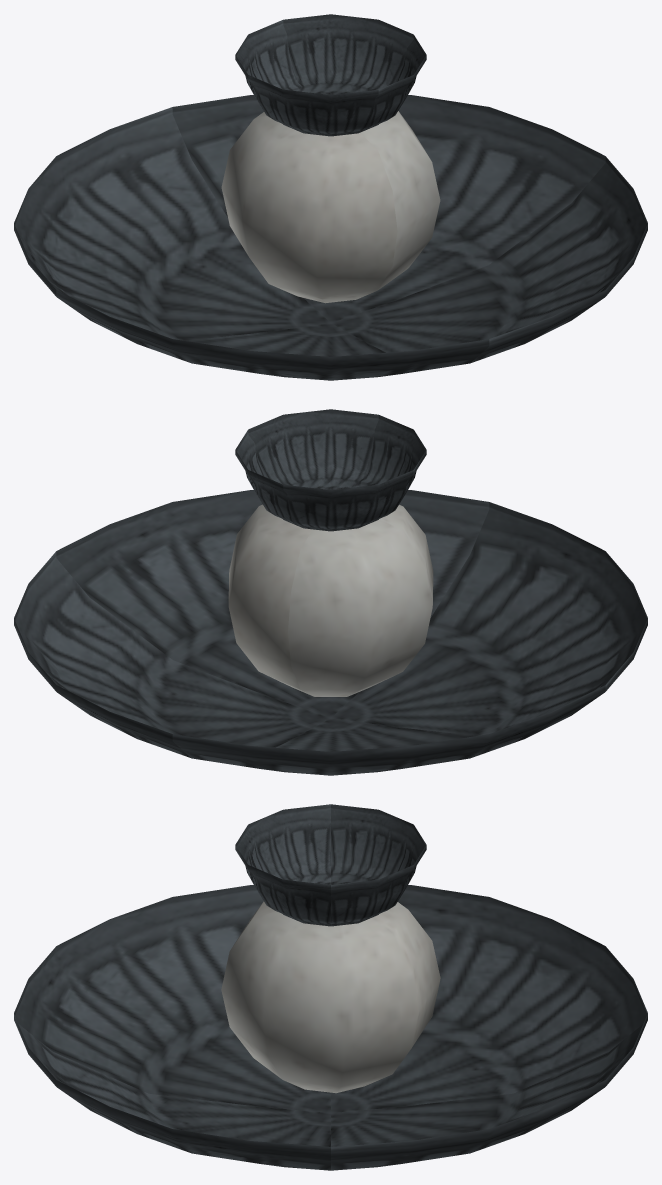
File: lamp_03_ceiling_lamp.fbx
3 renders of one model, top to bottom at view 1: azimuth 30°, elevation 25°; view 2: azimuth 150°, elevation 25°; view 3: azimuth 270°, elevation 25°, orthographic.
Visible parts, largest first — view 1: lamp_03_ceiling_lamp; view 2: lamp_03_ceiling_lamp; view 3: lamp_03_ceiling_lamp.
Boxes of the visible parts, x1=… form: lamp_03_ceiling_lamp: x1=14, y1=14, x2=647, y2=380; lamp_03_ceiling_lamp: x1=14, y1=409, x2=647, y2=775; lamp_03_ceiling_lamp: x1=14, y1=804, x2=647, y2=1170.
Size of the model in its own units: 88.64 by 41.41 by 88.64.
